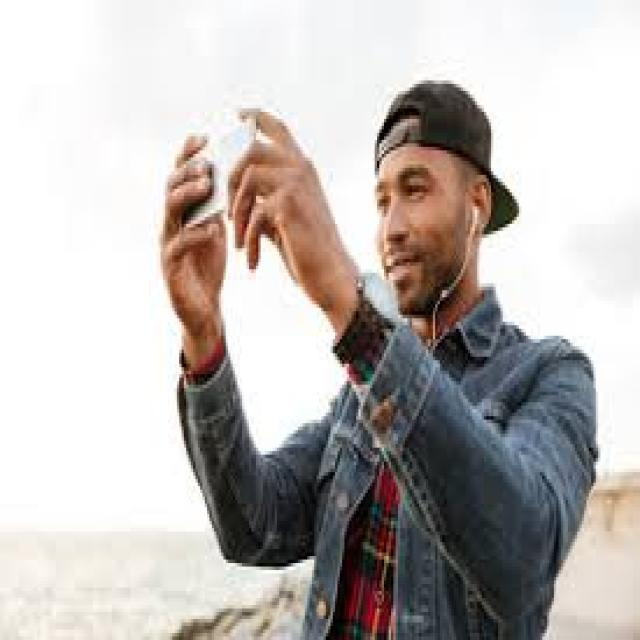cap: (368, 74, 521, 312)
